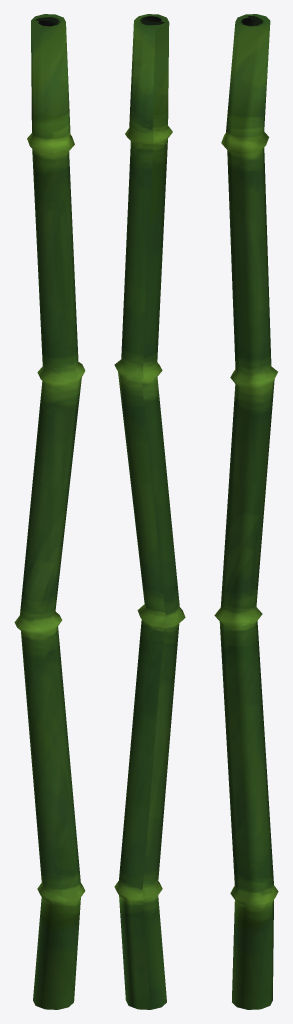
Rendered from Bamboo.fbx.
3 views of the same model, side by side, from view 1: azimuth 30°, elevation 25°; view 2: azimuth 210°, elevation 25°; view 3: azimuth 330°, elevation 25° (orthographic).
Parts seen in each view (by area): view 1: Bamboo:pCylinder1; view 2: Bamboo:pCylinder1; view 3: Bamboo:pCylinder1.
Part boxes in pixels (x1=…): Bamboo:pCylinder1: x1=14, y1=14, x2=85, y2=1009; Bamboo:pCylinder1: x1=114, y1=14, x2=185, y2=1009; Bamboo:pCylinder1: x1=214, y1=14, x2=278, y2=1009.
Size of the model in its own units: 8.51 by 130 by 6.42.
Materials: 1 (1 with a texture image).
